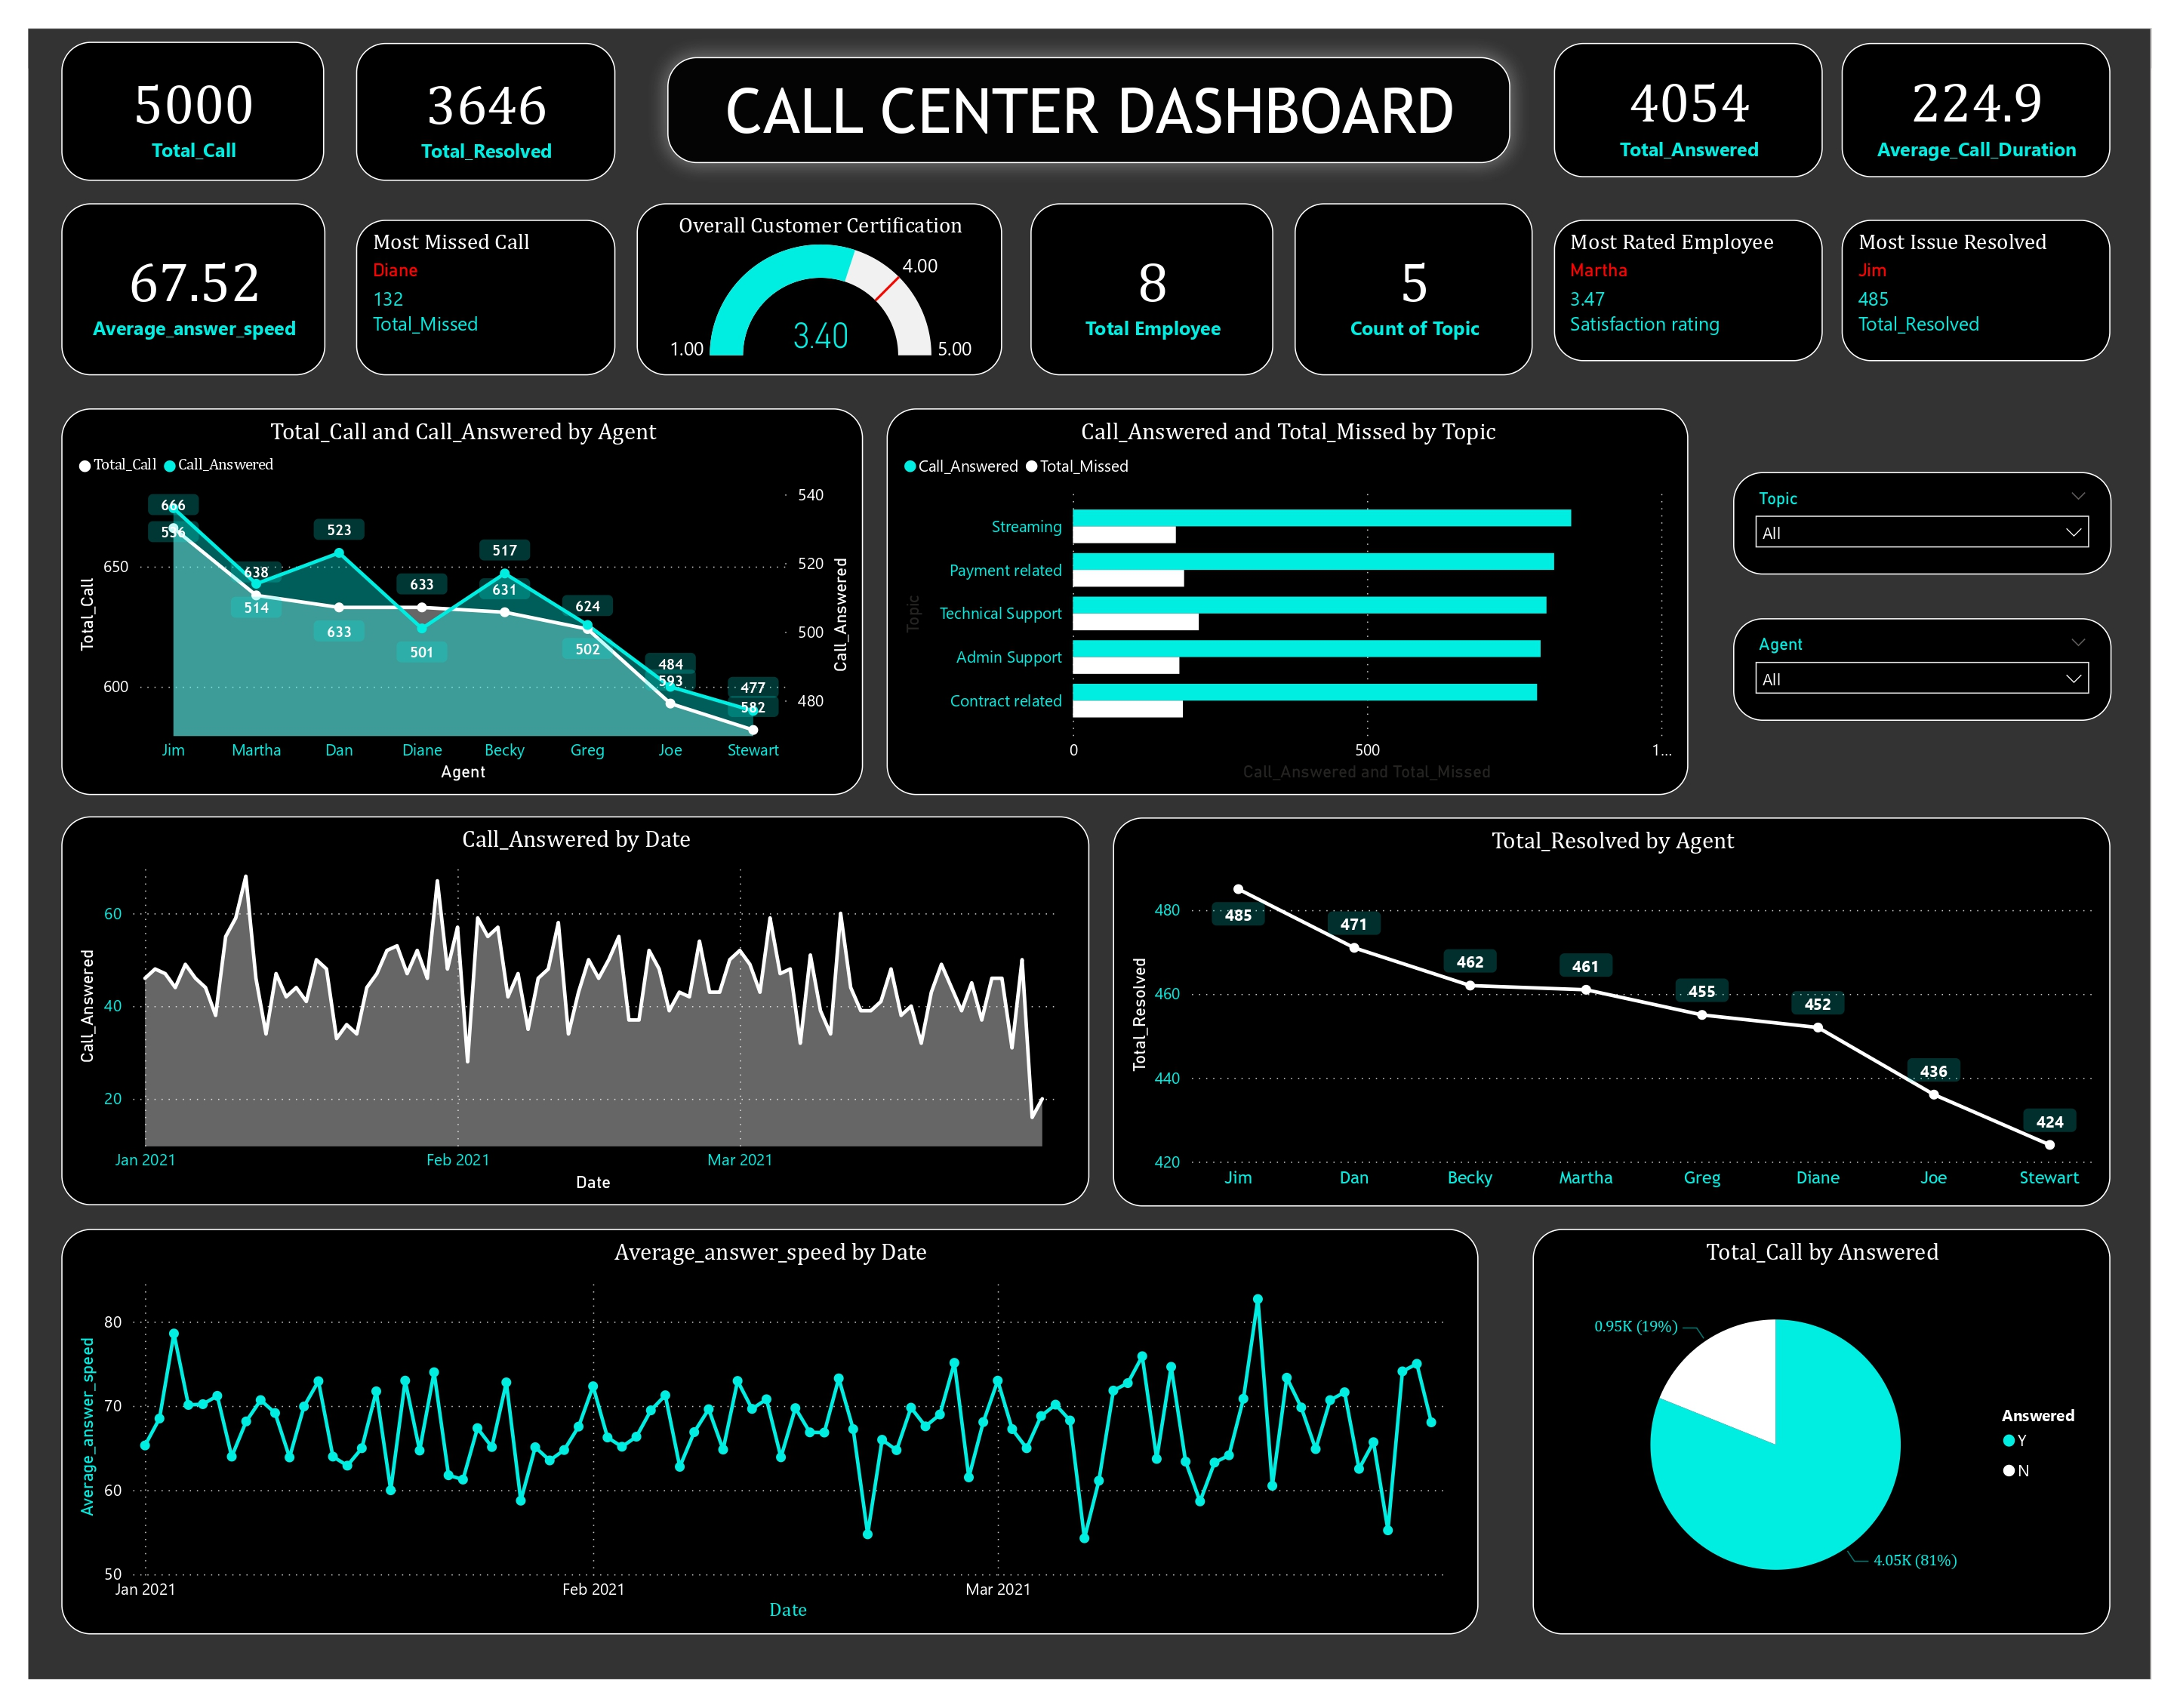

The dashboard page shown, as its layout file describes it:
{"tool":"powerbi","page":{"name":"Page 1","canvas":[1800,1400],"ordinal":0},"visuals":[{"type":"gauge","fields":{"Y":["Call center data.Satisfaction rating"]},"box":[516,148,310,146],"z":0},{"type":"card","fields":{"Values":["Measure.Total_Call"]},"box":[27.9,11.4,223.6,117.1],"z":1000},{"type":"textbox","box":[542.1,24.3,715,90],"z":2000},{"type":"card","fields":{"Values":["Measure.Call_Answered"]},"box":[1294,12,228,114],"z":3000},{"type":"card","fields":{"Values":["Measure.Total_Resolved"]},"box":[277.9,12.1,220,116.4],"z":4000},{"type":"card","fields":{"Values":["Measure.Average_answer_speed"]},"box":[28,148,224,146],"z":5000},{"type":"card","fields":{"Values":["Measure.Average_Call_Duration_sec"]},"box":[1538,12,228,114],"z":6000},{"type":"multiRowCard","title":"Most Missed Call","fields":{"Values":["Measure.Total_Missed","Call center data.Agent"]},"box":[278,162,220,132],"z":7000},{"type":"multiRowCard","title":"Most Issue Resolved","fields":{"Values":["Call center data.Agent","Measure.Total_Resolved"]},"box":[1538,162,228,120],"z":8000},{"type":"pieChart","fields":{"Y":["Measure.Total_Call"],"Category":["Call center data.Answered (Y/N)"]},"box":[1276,1018,490,344],"z":9000},{"type":"areaChart","fields":{"Category":["Call center data.Agent"],"Y":["Measure.Total_Call"],"Y2":["Measure.Call_Answered"]},"box":[28,322,680,328],"z":10000},{"type":"multiRowCard","title":"Most Rated Employee","fields":{"Values":["Call center data.Agent","Call center data.Satisfaction rating"]},"box":[1294,162,228,120],"z":11000},{"type":"card","fields":{"Values":["Call center data.Agent"]},"box":[850,148,206,146],"z":12000},{"type":"card","fields":{"Values":["Call center data.Topic"]},"box":[1074,148,202,146],"z":13000},{"type":"clusteredBarChart","fields":{"Category":["Call center data.Topic"],"Y":["Measure.Call_Answered","Measure.Total_Missed"]},"box":[728,322,680,328],"z":14000},{"type":"areaChart","fields":{"Y":["Measure.Call_Answered"],"Category":["Call center data.Date"]},"box":[28,668,872,330],"z":15000},{"type":"lineChart","fields":{"Category":["Call center data.Agent"],"Y":["Measure.Total_Resolved"]},"box":[920,668.6,845.7,330],"z":16000},{"type":"lineChart","fields":{"Category":["Call center data.Date"],"Y":["Measure.Average_answer_speed"]},"box":[28,1018,1202,344],"z":17000},{"type":"slicer","fields":{"Values":["Call center data.Topic"]},"box":[1445.7,375.7,321.4,87.1],"z":18000},{"type":"slicer","fields":{"Values":["Call center data.Agent"]},"box":[1445.7,500,321.4,87.1],"z":19000},{"type":"actionButton","box":[1730,294,70,70],"z":20000}]}

Visuals, with their boxes on the page's 1800x1400 design canvas (x1, y1, x2, y2). These are canvas units, not pixel positions in the 2180x1708 screenshot, which may show the page scaled, cropped or inside an application window:
gauge - Call center data.Satisfaction rating: <box>516,148,826,294</box>
card - Measure.Total_Call: <box>28,11,252,128</box>
textbox: <box>542,24,1257,114</box>
card - Measure.Call_Answered: <box>1294,12,1522,126</box>
card - Measure.Total_Resolved: <box>278,12,498,128</box>
card - Measure.Average_answer_speed: <box>28,148,252,294</box>
card - Measure.Average_Call_Duration_sec: <box>1538,12,1766,126</box>
"Most Missed Call" multiRowCard: <box>278,162,498,294</box>
"Most Issue Resolved" multiRowCard: <box>1538,162,1766,282</box>
pieChart - Measure.Total_Call x Call center data.Answered (Y/N): <box>1276,1018,1766,1362</box>
areaChart - Call center data.Agent x Measure.Total_Call: <box>28,322,708,650</box>
"Most Rated Employee" multiRowCard: <box>1294,162,1522,282</box>
card - Call center data.Agent: <box>850,148,1056,294</box>
card - Call center data.Topic: <box>1074,148,1276,294</box>
clusteredBarChart - Call center data.Topic x Measure.Call_Answered: <box>728,322,1408,650</box>
areaChart - Measure.Call_Answered x Call center data.Date: <box>28,668,900,998</box>
lineChart - Call center data.Agent x Measure.Total_Resolved: <box>920,669,1766,999</box>
lineChart - Call center data.Date x Measure.Average_answer_speed: <box>28,1018,1230,1362</box>
slicer - Call center data.Topic: <box>1446,376,1767,463</box>
slicer - Call center data.Agent: <box>1446,500,1767,587</box>
actionButton: <box>1730,294,1800,364</box>
